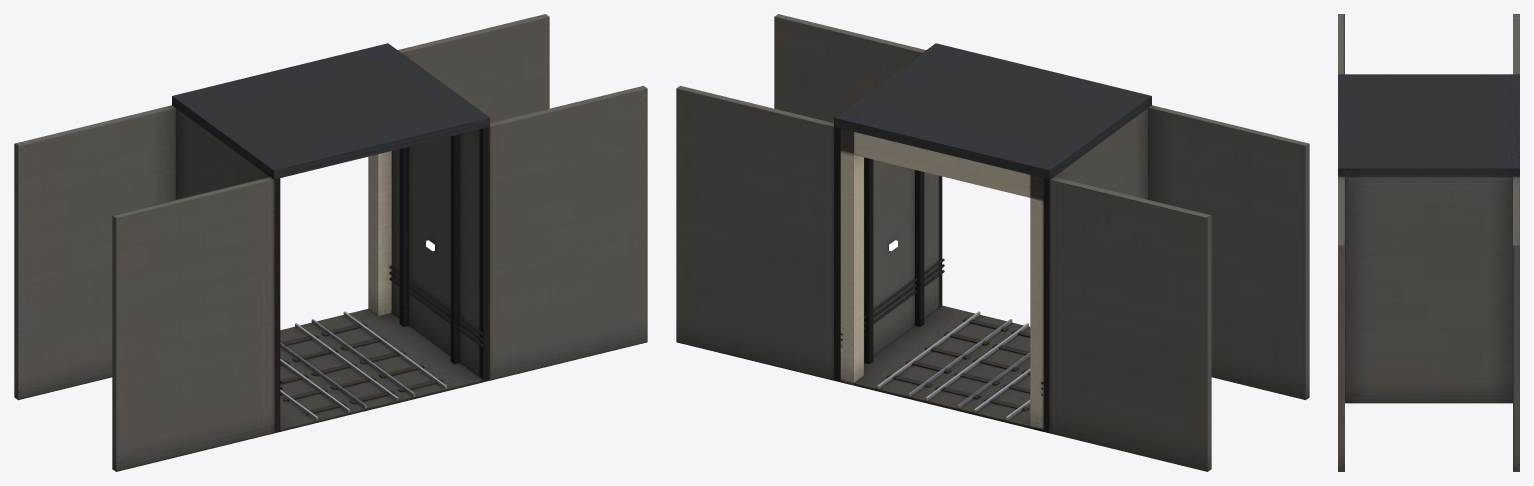
File: metro_salida.glb
3 views of the same model, side by side, from view 1: azimuth 30°, elevation 25°; view 2: azimuth 150°, elevation 25°; view 3: azimuth 270°, elevation 25° (orthographic). The views are drawn at different scales.
Parts seen in each view (by area): view 1: metro_salida; view 2: metro_salida; view 3: metro_salida.
Boxes of the visible parts, bbox=[...] form: metro_salida: bbox=[14, 14, 647, 471]; metro_salida: bbox=[676, 14, 1309, 471]; metro_salida: bbox=[1338, 14, 1519, 471].
Size of the model in its own units: 24.1 by 11.4 by 8.
Materials: 1 (1 with a texture image).
